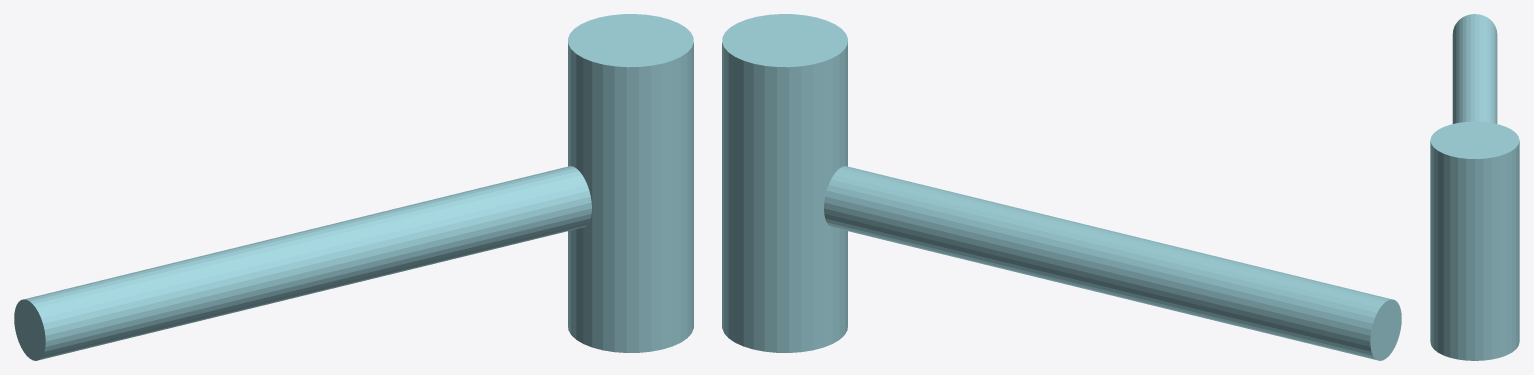
Rendered from primitive_cylindrical_mallet.obj.
The picture shows the model from 3 angles, left to right: view 1: azimuth 30°, elevation 25°; view 2: azimuth 150°, elevation 25°; view 3: azimuth 270°, elevation 25°; orthographic projection. The views are drawn at different scales.
Bounding box in the file's own units: 0.24 × 0.1 × 0.04.
1 material, 1 textured.
